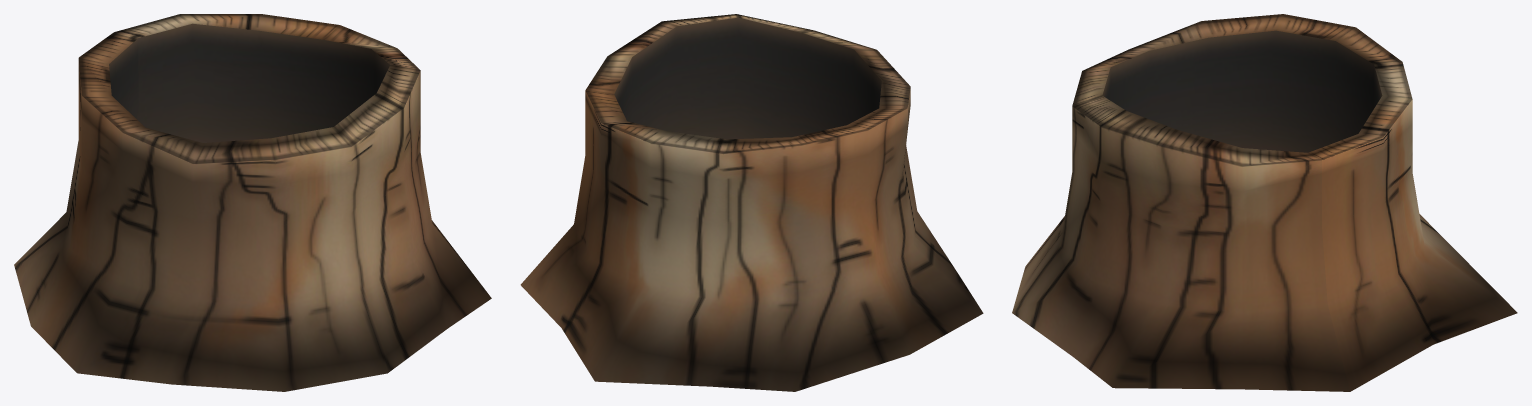
File: tree trunk'.fbx
3 views of the same model, side by side, from view 1: azimuth 30°, elevation 25°; view 2: azimuth 150°, elevation 25°; view 3: azimuth 270°, elevation 25° (orthographic). The views are drawn at different scales.
Visible parts, largest first — view 1: pCylinder1; view 2: pCylinder1; view 3: pCylinder1.
Part boxes in pixels (<box>): pCylinder1: <box>14,14,491,391</box>; pCylinder1: <box>520,14,983,391</box>; pCylinder1: <box>1012,14,1517,391</box>.
Size of the model in its own units: 2.64 by 1.48 by 2.95.
